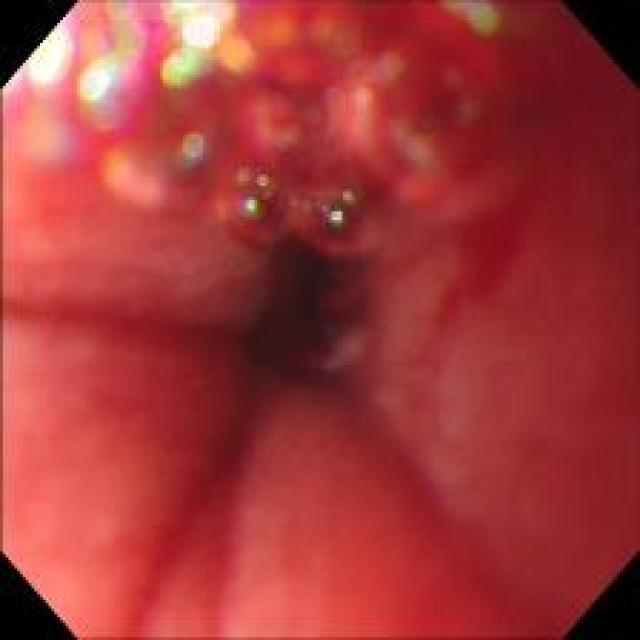blur: (31, 24, 579, 578)
color misalignment: (354, 12, 564, 225), (8, 1, 245, 115), (229, 12, 418, 104), (162, 119, 215, 178), (231, 166, 271, 216), (295, 189, 355, 220)
contrast: (235, 232, 380, 395)
